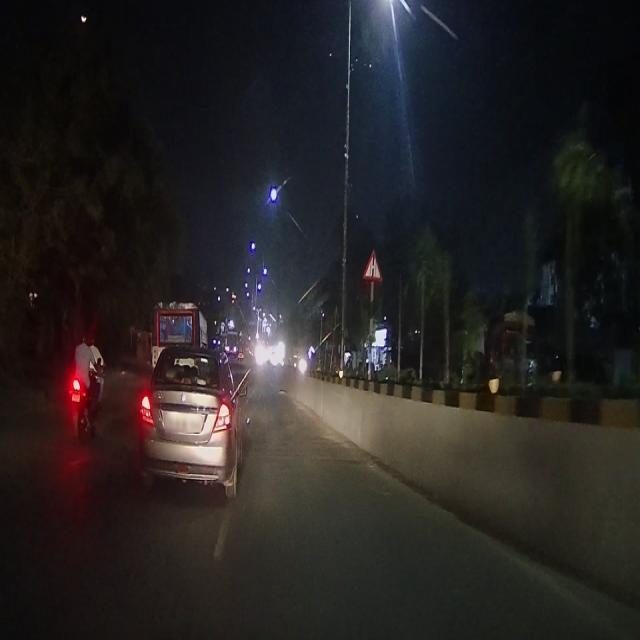gap-in-median: (365, 250, 382, 279)
